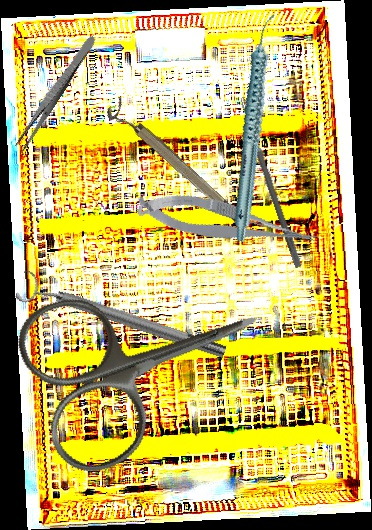Dressing Forceps: (12, 32, 98, 154)
Fixation Ring: (14, 266, 230, 371), (103, 96, 253, 237)
Handpiece: (189, 11, 321, 243)
Iris Scissors: (7, 237, 288, 485)
Micro Scissor: (132, 177, 321, 270)
Surgical Spoon: (236, 95, 304, 269)
